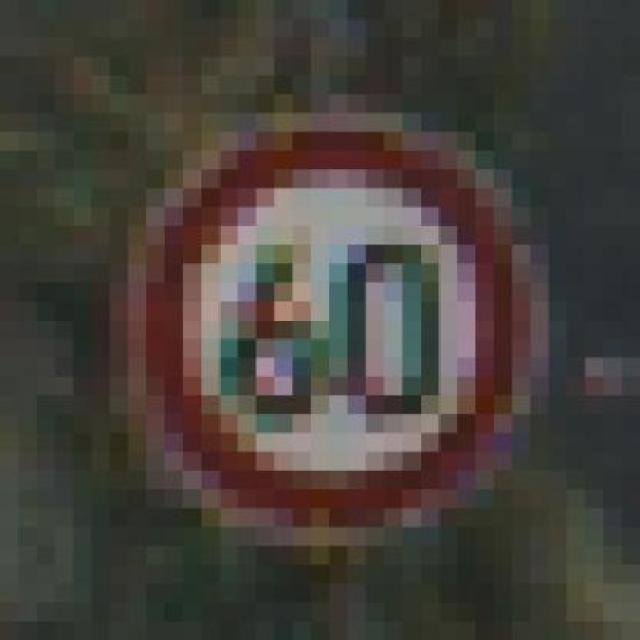forb_speed_over_60: (141, 124, 522, 521)
